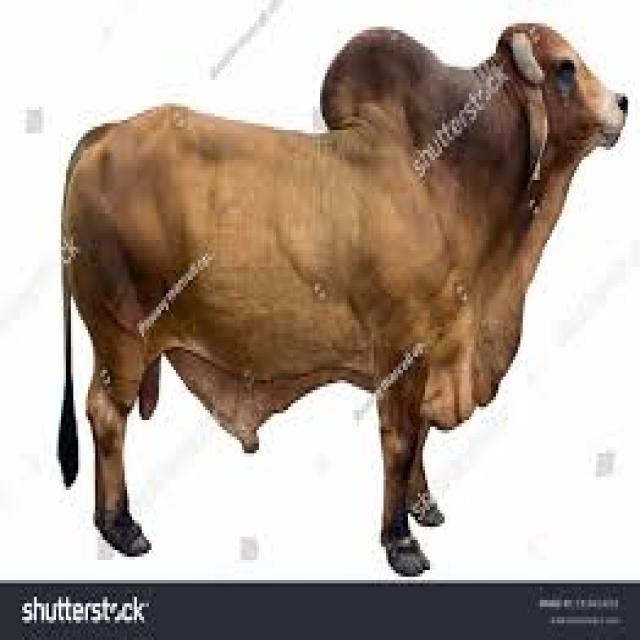Ox: (57, 19, 626, 558)
